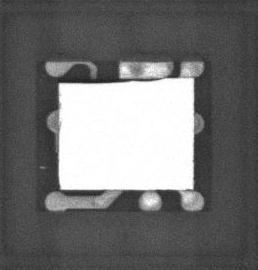DIE_BROKEN: (59, 76, 161, 84)
